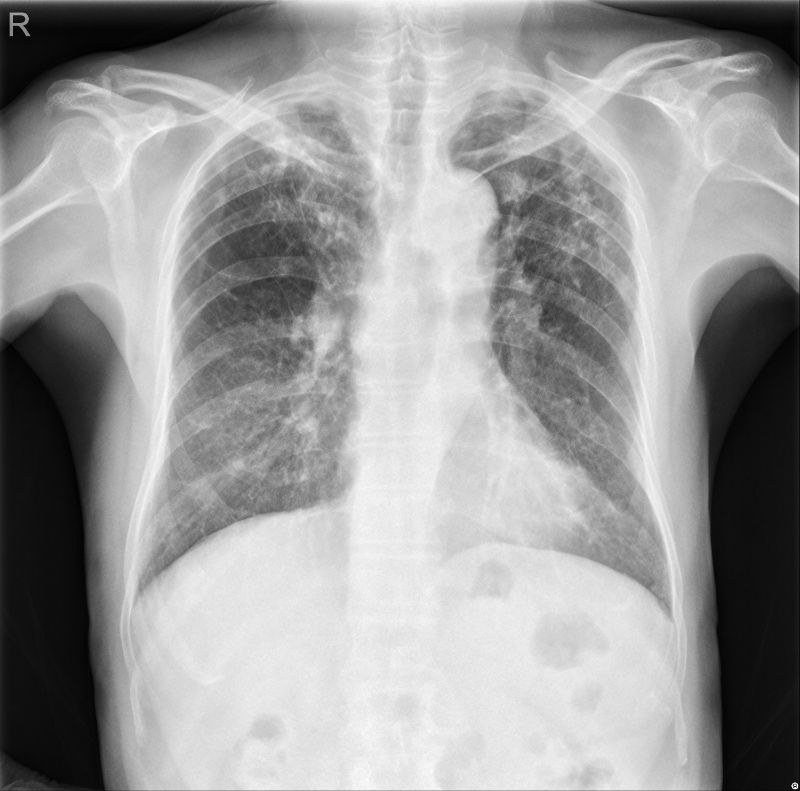Tuberculosis (TB): (504, 136, 607, 265), (252, 130, 346, 268)
